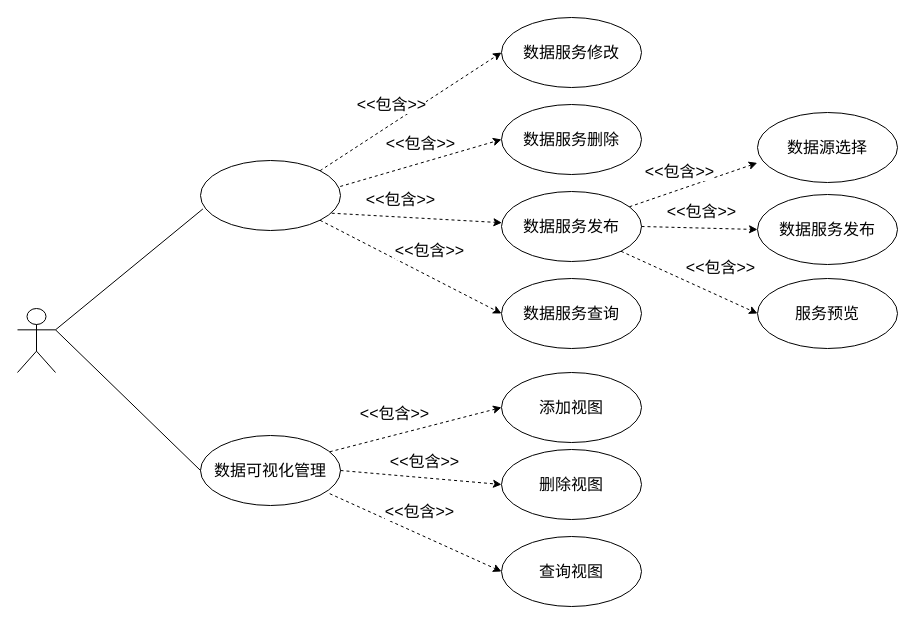
Image size: 915x624. Some labels were removed from this diagram. The shapes that lost their labels are listed below. From the top down, each one's box as (x1, y1, x2, y2) in pixels, then its label:
(200, 160, 340, 230): 服务发布管理
(16, 308, 56, 372): 用户
